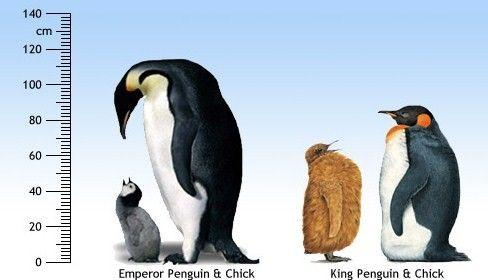emporer: (97, 46, 266, 279)
